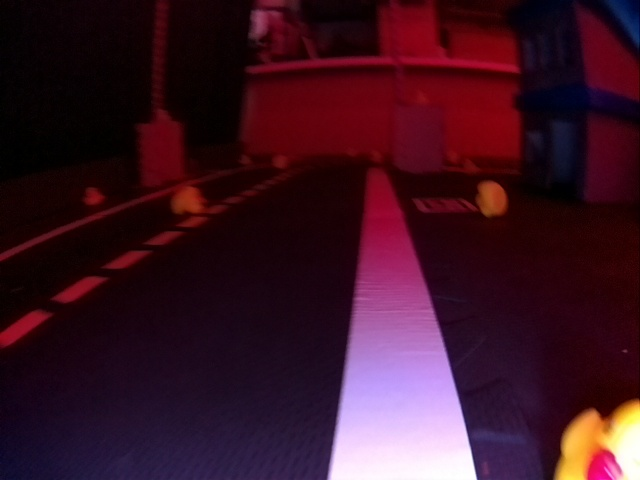Duckie: (554, 403, 638, 478), (172, 187, 206, 216), (479, 181, 506, 215), (83, 186, 99, 205)
QR code: (413, 196, 475, 215)
